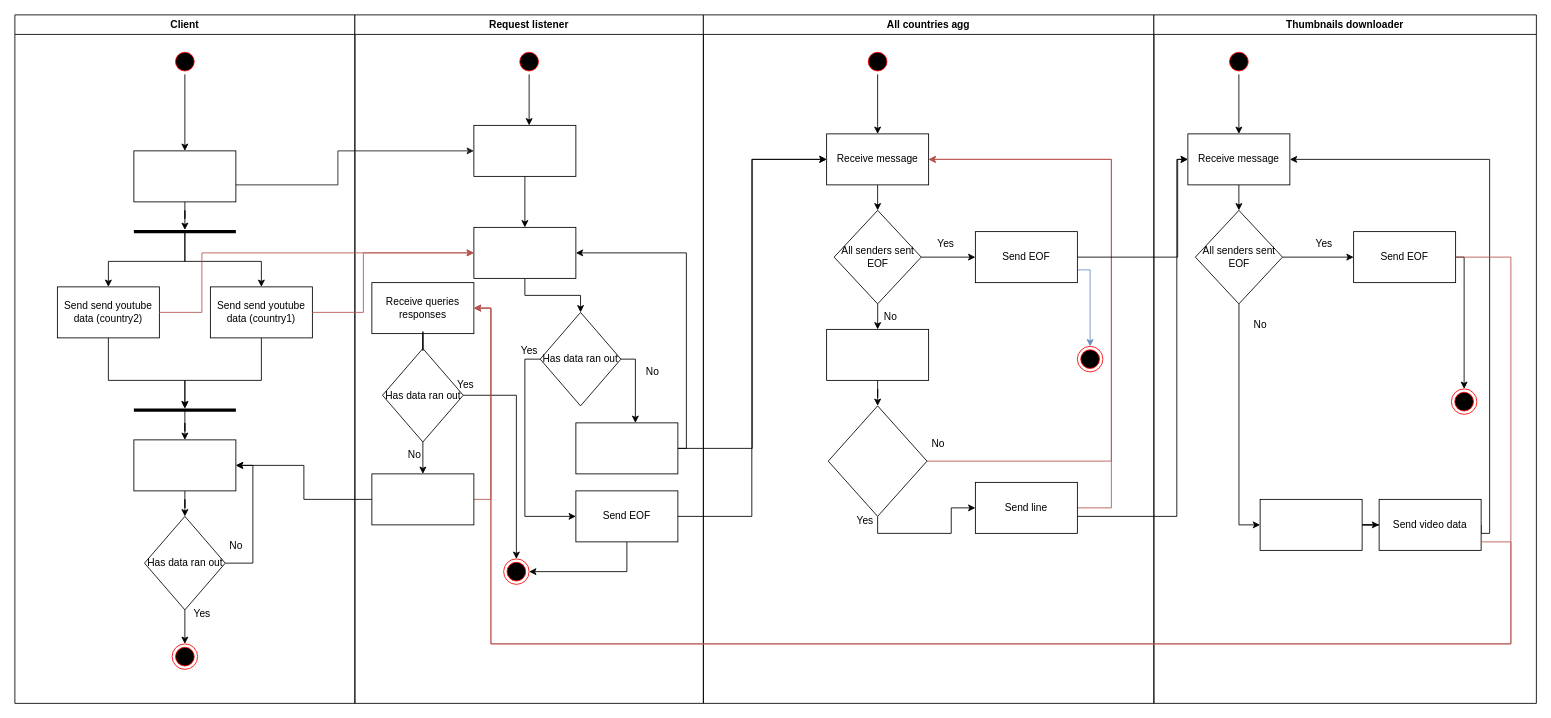
Some shapes in this 1551 by 718 pixel diagram are drawn without their labels. The shapes that lost their labels are listed below. From the top down, each one's centre as x and y in pixels, then its label:
At pixel 524 150: "Receive client config data".
At pixel 184 176: "Send config".
At pixel 524 252: "Receive youtube data".
At pixel 877 354: "Update video date country".
At pixel 184 465: "Receive".
At pixel 626 448: "Send youtube data line".
At pixel 877 460: "Has 11 different countries".
At pixel 422 499: "Send queries responses".
At pixel 1310 524: "Download video thumbnail".
